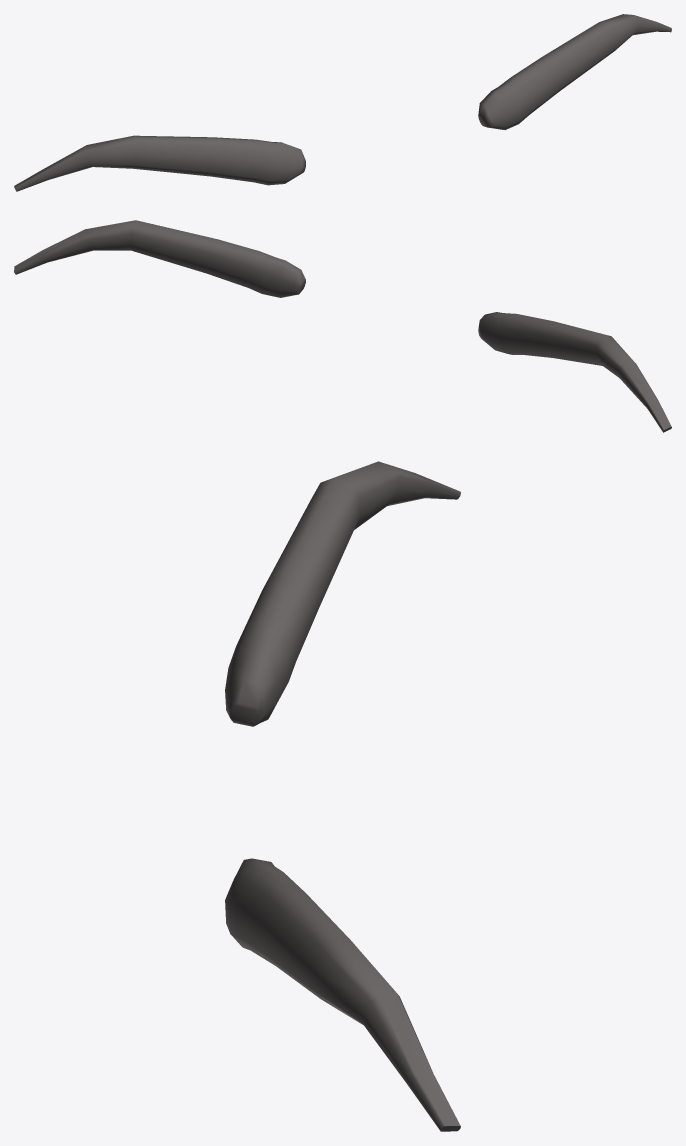
Rendered from Eyebrows_14_04.fbx.
3 renders of one model, top to bottom at view 1: azimuth 30°, elevation 25°; view 2: azimuth 150°, elevation 25°; view 3: azimuth 270°, elevation 25°, orthographic. The views are drawn at different scales.
Visible parts, largest first — view 1: Eyebrows_14_04; view 2: Eyebrows_14_04; view 3: Eyebrows_14_04.
Part boxes in pixels (left/top/right/bottom): Eyebrows_14_04: left=14, top=14, right=671, bottom=191; Eyebrows_14_04: left=14, top=220, right=671, bottom=432; Eyebrows_14_04: left=225, top=461, right=460, bottom=1131.
Size of the model in its own units: 19.11 by 1.7 by 2.97.
